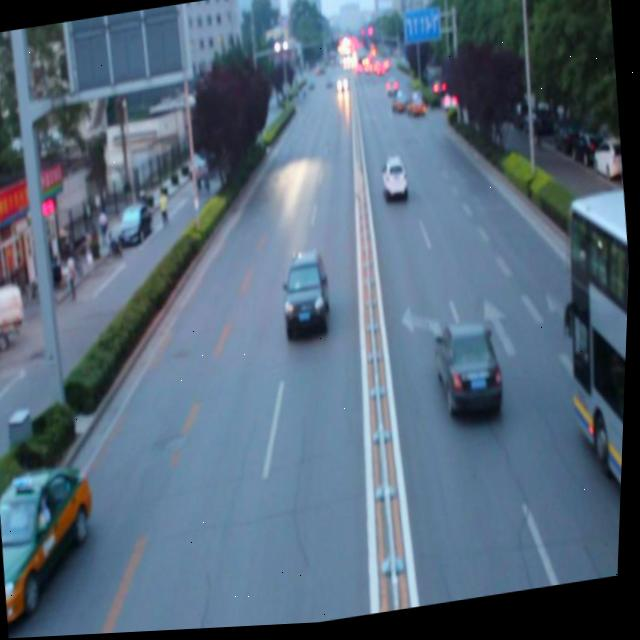car: (0, 458, 109, 626), (431, 317, 510, 429), (278, 247, 337, 345), (380, 157, 412, 207)
van: (544, 182, 634, 588)
